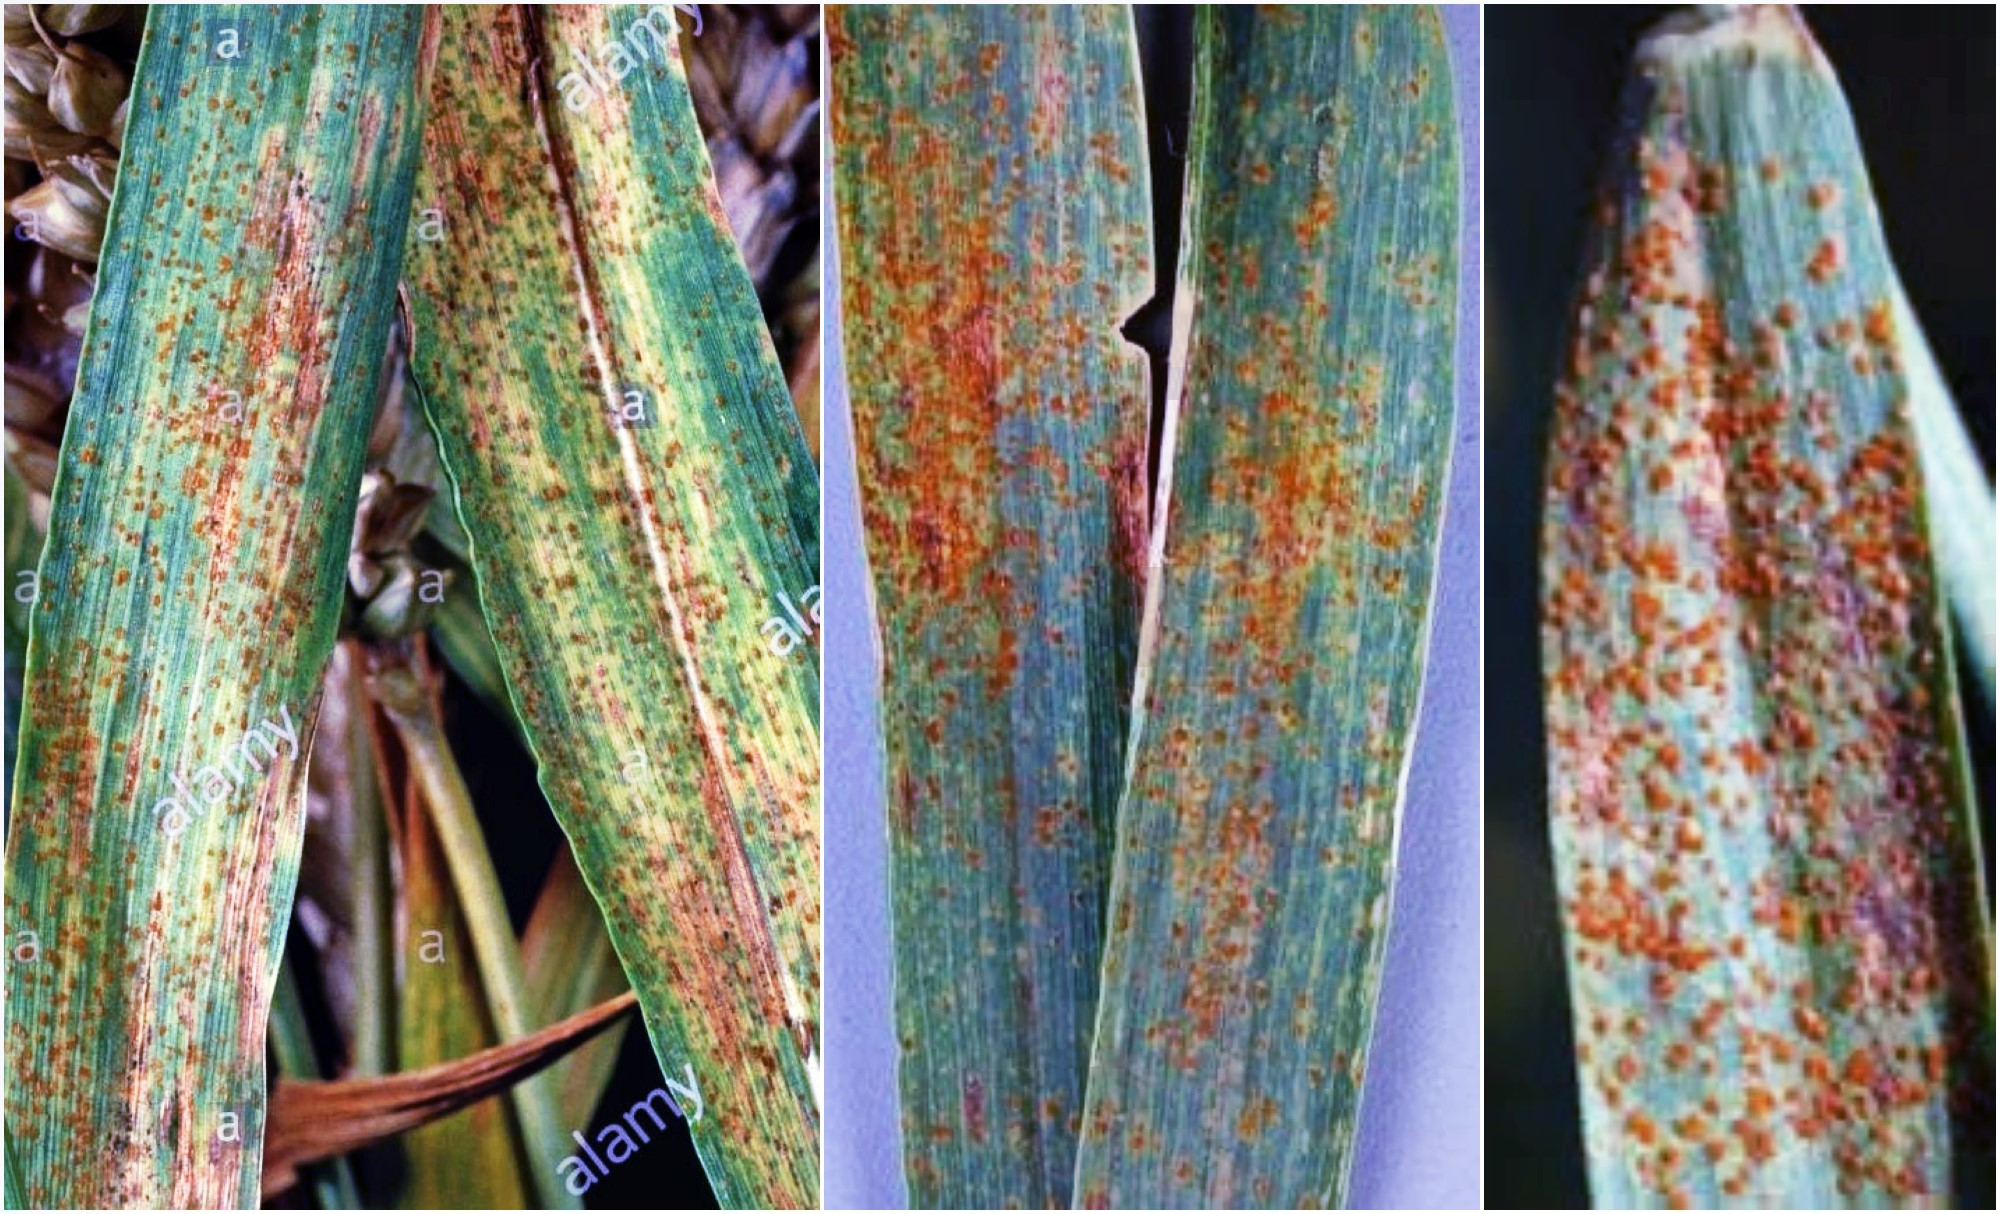Leaf Rust: (843, 101, 1473, 925), (1524, 271, 1981, 1188), (441, 221, 824, 1025), (71, 99, 391, 837)
